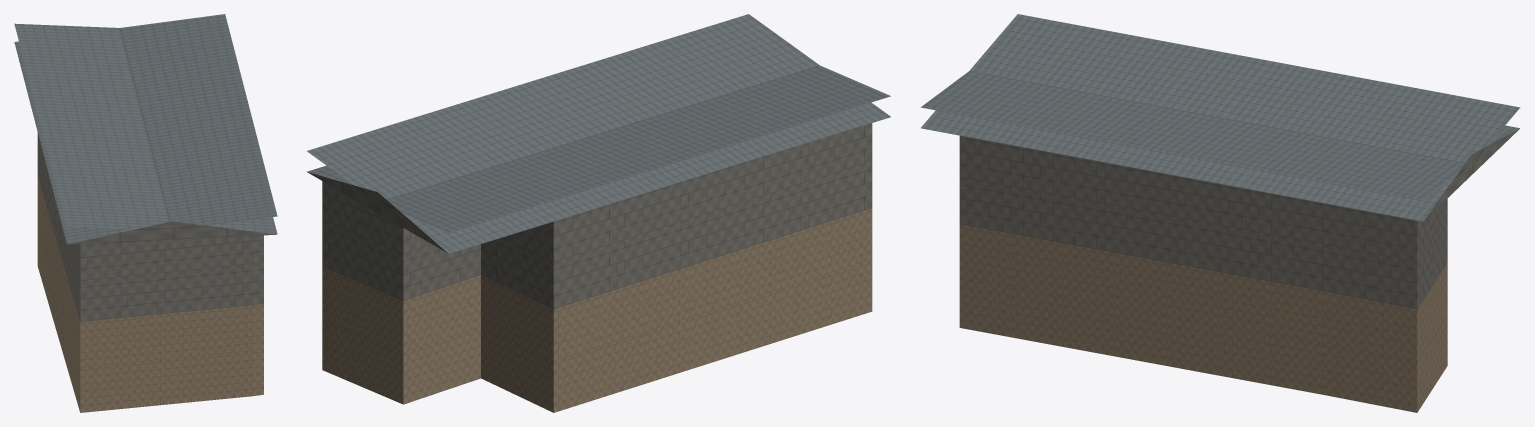
File: bld_c35_-27_445.gltf
The picture shows the model from 3 angles, left to right: view 1: azimuth 30°, elevation 25°; view 2: azimuth 150°, elevation 25°; view 3: azimuth 270°, elevation 25°; orthographic projection. The views are drawn at different scales.
Parts seen in each view (by area): view 1: bld_c35_-27_445; view 2: bld_c35_-27_445; view 3: bld_c35_-27_445.
Boxes of the visible parts, x1,y1,x2,y2 form: bld_c35_-27_445: (14, 14, 277, 412); bld_c35_-27_445: (306, 14, 890, 412); bld_c35_-27_445: (920, 14, 1520, 412).
Bounding box in the file's own units: 19.28 × 10.5 × 26.15.
4 materials, 4 textured.
